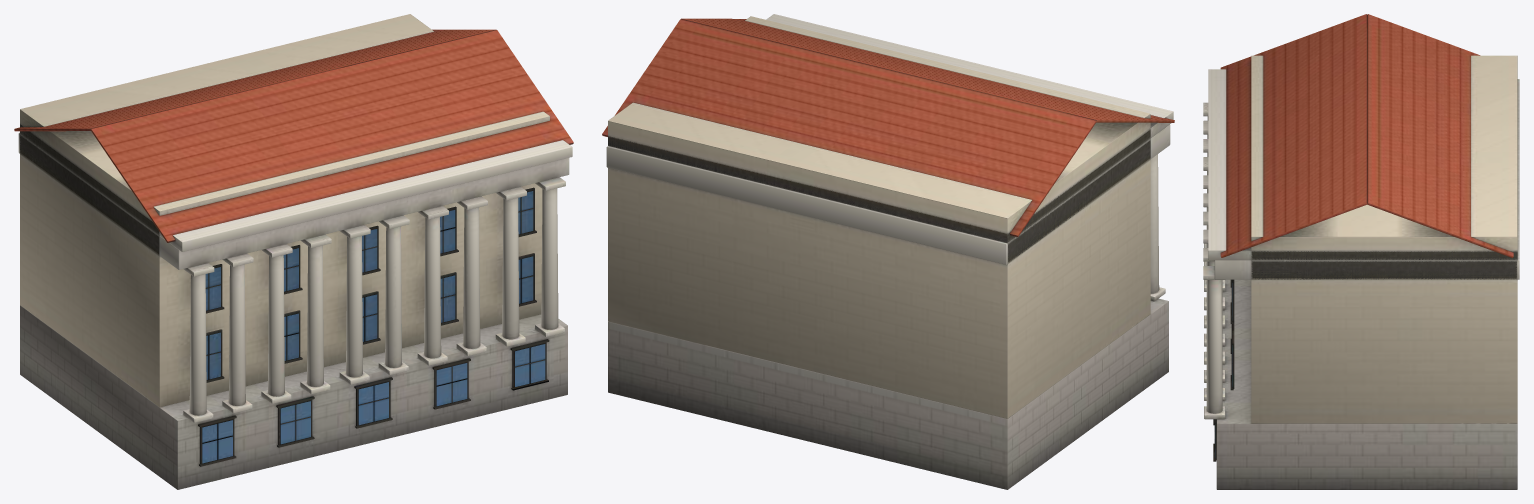
Rendered from reagan.glb.
3 renders of one model, left to right at view 1: azimuth 30°, elevation 25°; view 2: azimuth 150°, elevation 25°; view 3: azimuth 270°, elevation 25°, orthographic. The views are drawn at different scales.
Parts seen in each view (by area): view 1: reagan; view 2: reagan; view 3: reagan.
Part boxes in pixels (x1=…): reagan: x1=14, y1=14, x2=573, y2=489; reagan: x1=602, y1=14, x2=1174, y2=489; reagan: x1=1203, y1=14, x2=1519, y2=489.
Size of the model in its own units: 20.8 by 14.95 by 14.73.
1 material, 1 textured.
